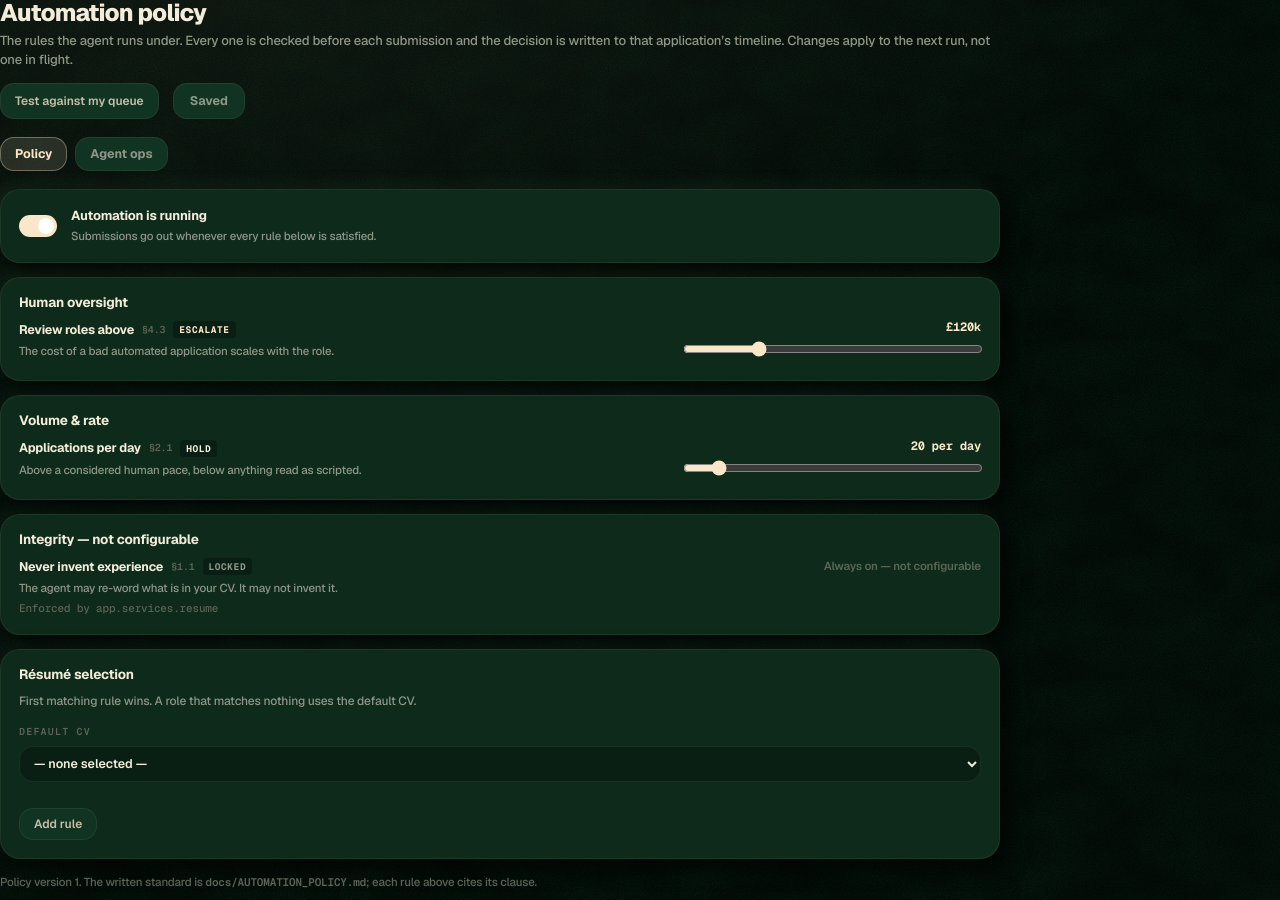
Scenario: AutomationPage › previews a candidate policy against the queue without saving it
The image size is (1280, 900).
Click the button "Test against my queue" at [79, 101], box [0,83,159,119]
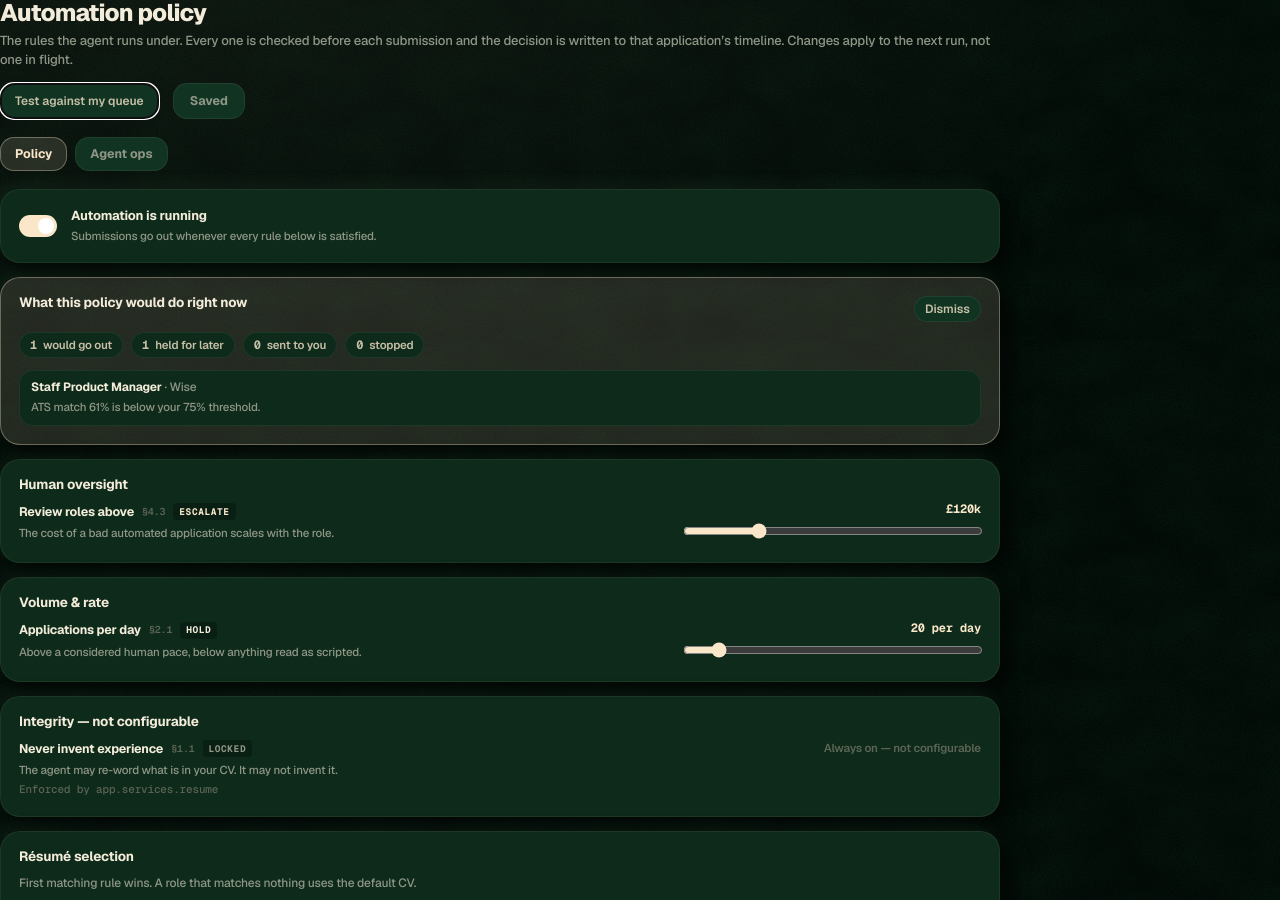
Now the text "1 would go out" is shown, box [19,332,123,358]
Now the text "ATS match 61% is below your 75% threshold." is shown, box [31,399,260,414]
